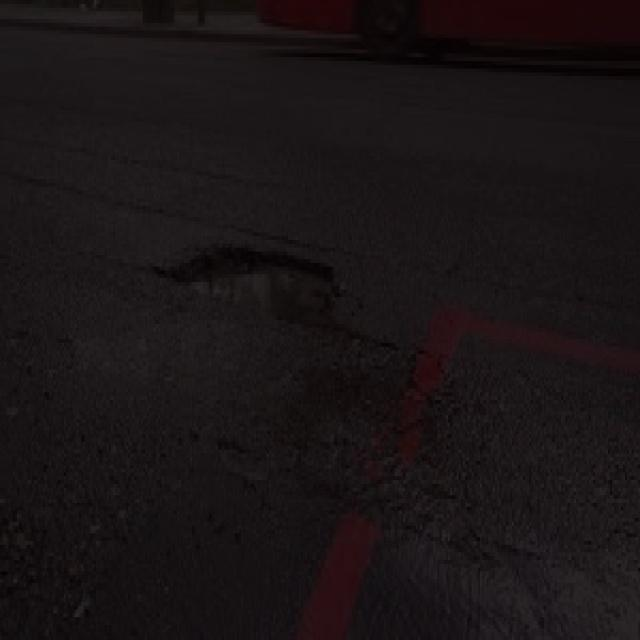Pothole: (150, 234, 342, 342)
